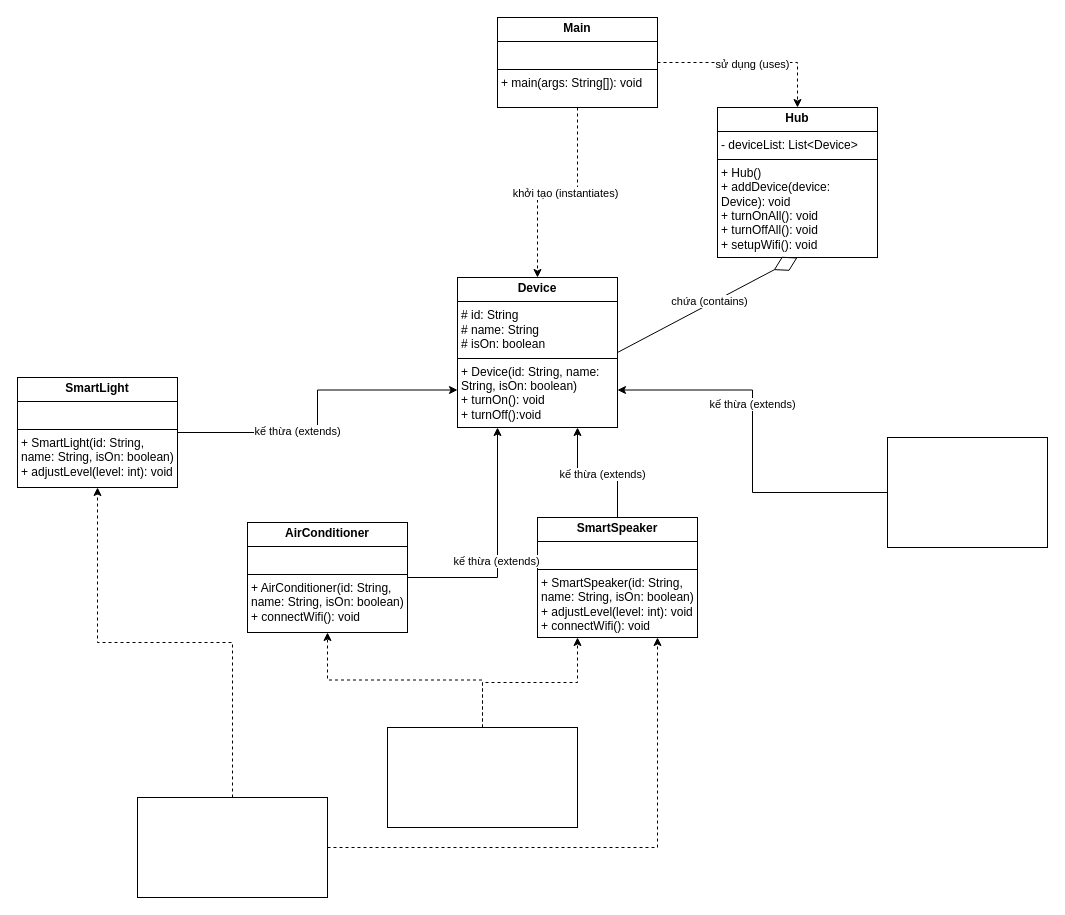
This 1065x915 diagram has some shape labels left out. The shapes that lost their labels are listed below. From the top down, each one's centre as x and y in pixels, then its label:
At [967,492]: "AutomaticCurtain + AutomaticCurtain(id: String, name: String, isOn: boolean)".
At [482,777]: "<<Interface>> IWiFiConnectable + connectWifi(): void".
At [232,847]: "<<Interface>> ILevelAdjustable + adjustLevel(level: int): void".
